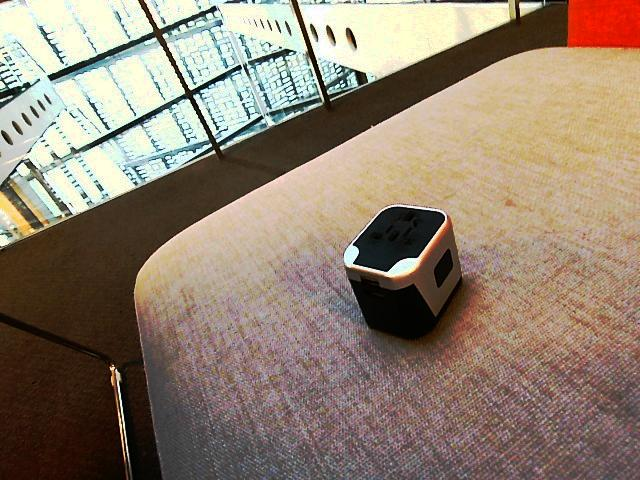adapter: (342, 202, 462, 338)
